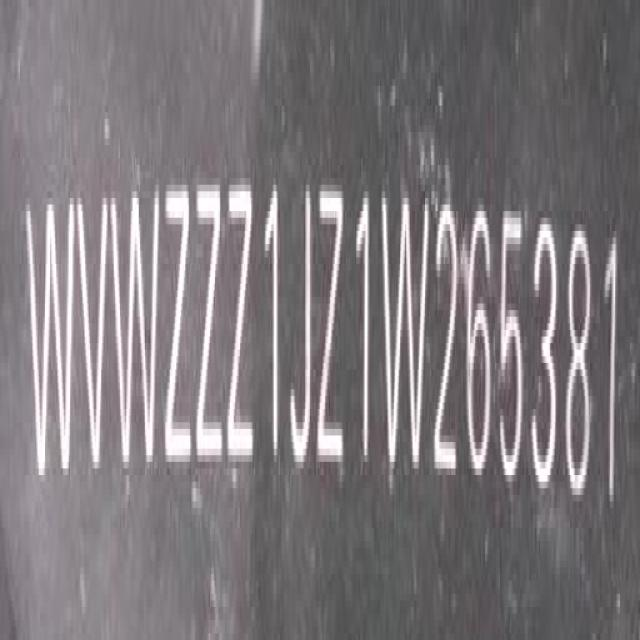1: (604, 229, 622, 506), (264, 186, 282, 462), (354, 190, 370, 467)
2: (432, 198, 462, 488)
3: (532, 212, 560, 498)
5: (500, 200, 528, 488)
6: (465, 198, 495, 488)
8: (566, 224, 595, 504)
J: (288, 178, 313, 474)
V: (76, 178, 110, 484)
W: (110, 168, 160, 488), (381, 178, 431, 484), (29, 186, 74, 495)
Z: (163, 176, 194, 488), (226, 174, 257, 484), (316, 170, 346, 485), (196, 165, 225, 482)
